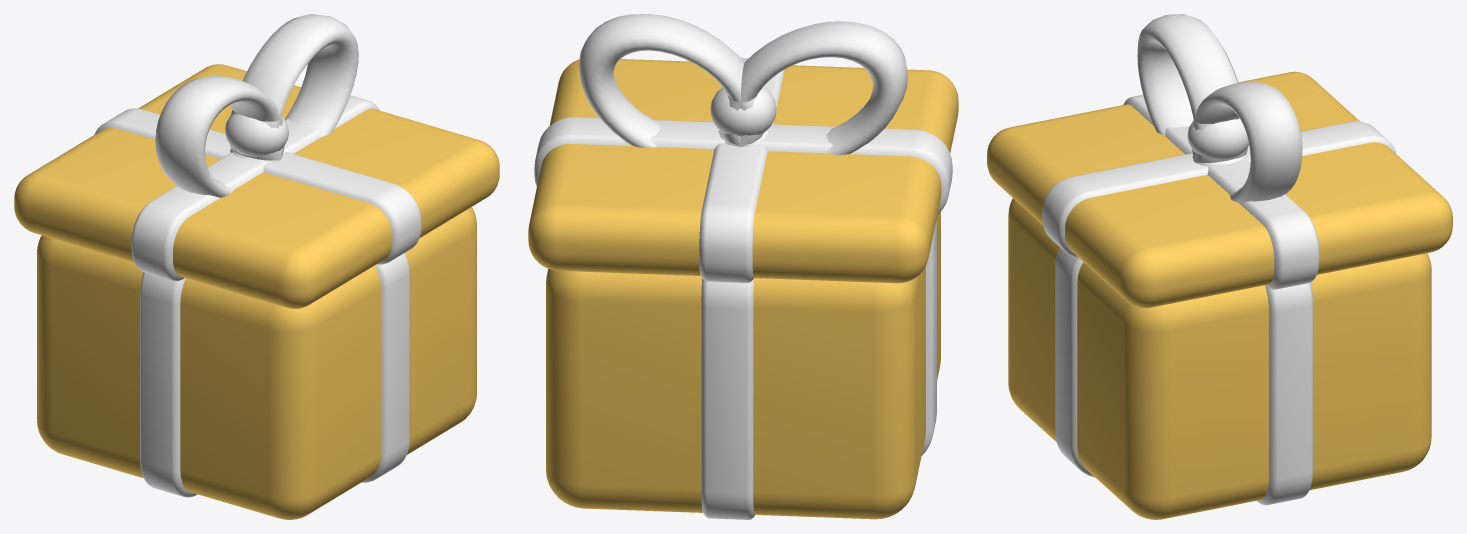
File: 02-gift-box.glb
3 renders of one model, left to right at view 1: azimuth 30°, elevation 25°; view 2: azimuth 150°, elevation 25°; view 3: azimuth 270°, elevation 25°, orthographic. The views are drawn at different scales.
Visible parts, largest first — view 1: GiftBox; view 2: GiftBox; view 3: GiftBox.
Part boxes in pixels (bbox=[...]): GiftBox: bbox=[14, 14, 499, 519]; GiftBox: bbox=[528, 14, 958, 519]; GiftBox: bbox=[987, 14, 1452, 519].
Size of the model in its own units: 1.2 by 1.11 by 1.2.
